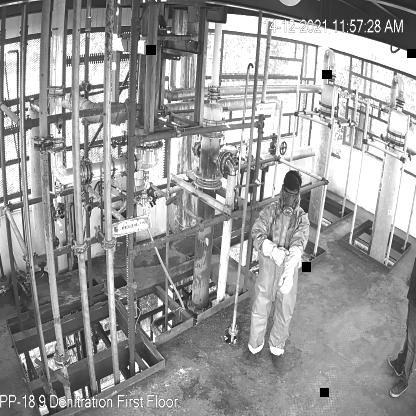goggles: (282, 188, 300, 198)
mask: (281, 195, 296, 217)
